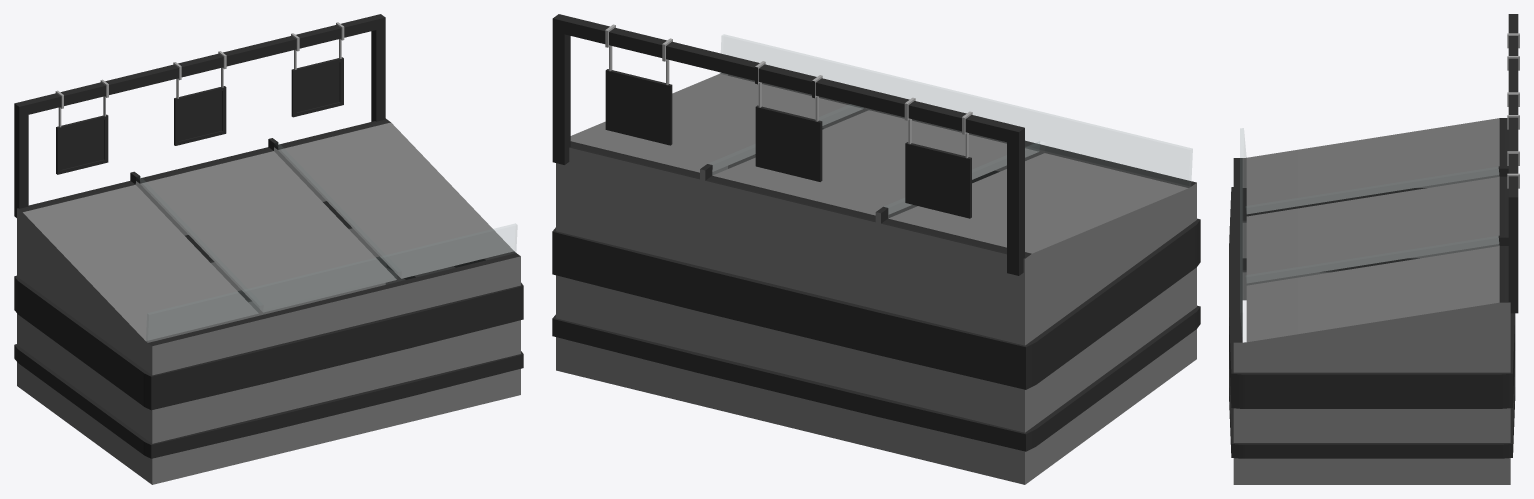
Rendered from FruitsShelf.fbx.
3 views of the same model, side by side, from view 1: azimuth 30°, elevation 25°; view 2: azimuth 150°, elevation 25°; view 3: azimuth 270°, elevation 25° (orthographic). The views are drawn at different scales.
Parts seen in each view (by area): view 1: FruitsShelf; view 2: FruitsShelf; view 3: FruitsShelf.
Part boxes in pixels (x1,y1,x2,y2): FruitsShelf: [14, 14, 523, 484]; FruitsShelf: [552, 14, 1200, 484]; FruitsShelf: [1229, 14, 1519, 484].
Bounding box in the file's own units: 191 × 137 × 125.
